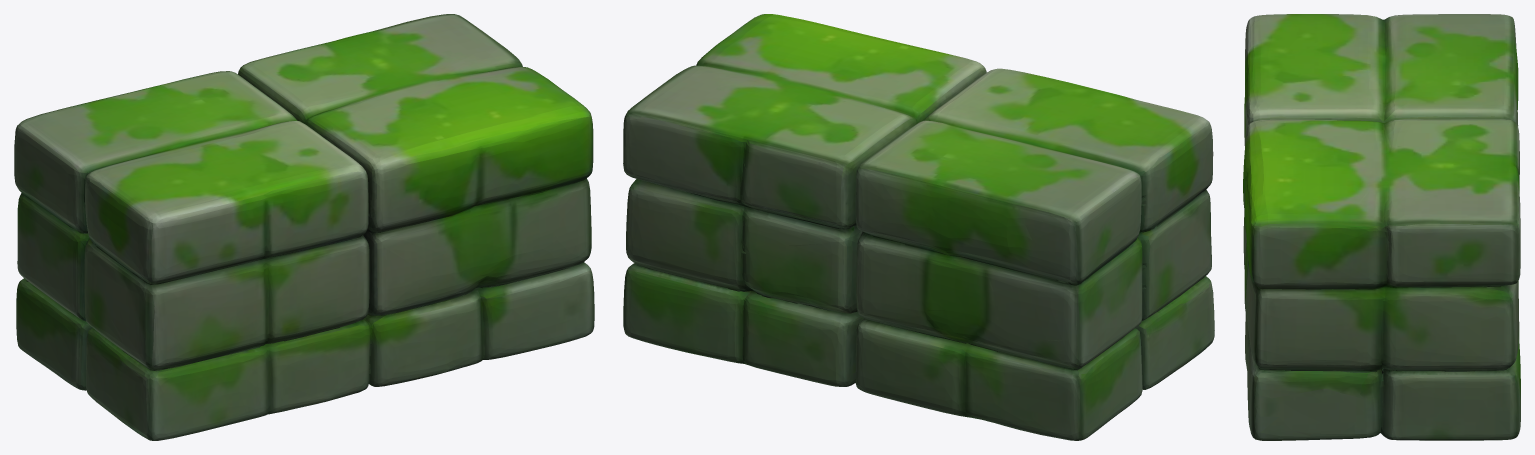
Rendered from tile_stonegrassy.glb.
3 views of the same model, side by side, from view 1: azimuth 30°, elevation 25°; view 2: azimuth 150°, elevation 25°; view 3: azimuth 270°, elevation 25° (orthographic). The views are drawn at different scales.
Visible parts, largest first — view 1: world; view 2: world; view 3: world.
Boxes of the visible parts, x1,y1,x2,y2 form: world: (14, 14, 594, 440); world: (623, 14, 1214, 440); world: (1243, 14, 1520, 440).
Bounding box in the file's own units: 0.9894 × 0.4822 × 0.5436.
1 material, 1 textured.
